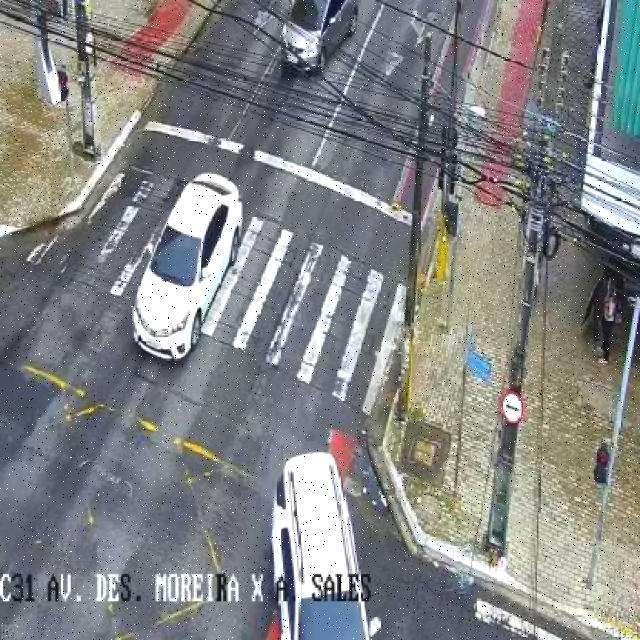Car: (271, 450, 383, 640), (132, 173, 242, 362), (277, 0, 362, 77)
